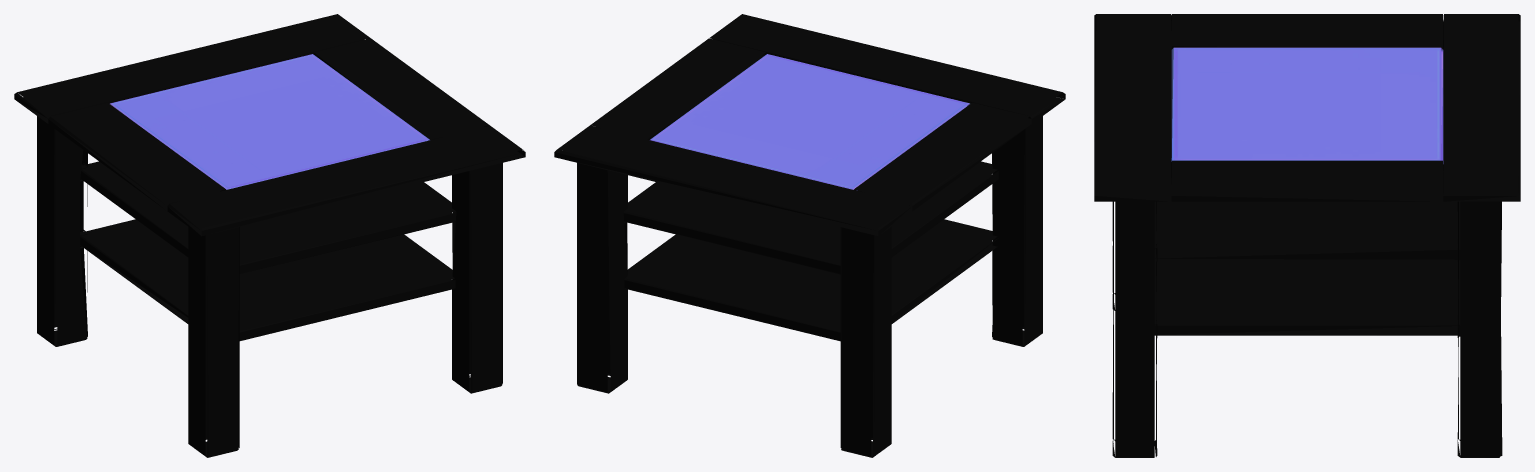
Rendered from Table.obj.
3 views of the same model, side by side, from view 1: azimuth 30°, elevation 25°; view 2: azimuth 150°, elevation 25°; view 3: azimuth 270°, elevation 25° (orthographic). The views are drawn at different scales.
Visible parts, largest first — view 1: Table; view 2: Table; view 3: Table.
Part boxes in pixels (x1=…): Table: x1=14, y1=14, x2=525, y2=457; Table: x1=554, y1=14, x2=1065, y2=457; Table: x1=1094, y1=14, x2=1520, y2=457.
Size of the model in its own units: 1.85 by 1.31 by 1.85.
Materials: 2 (1 with a texture image).
